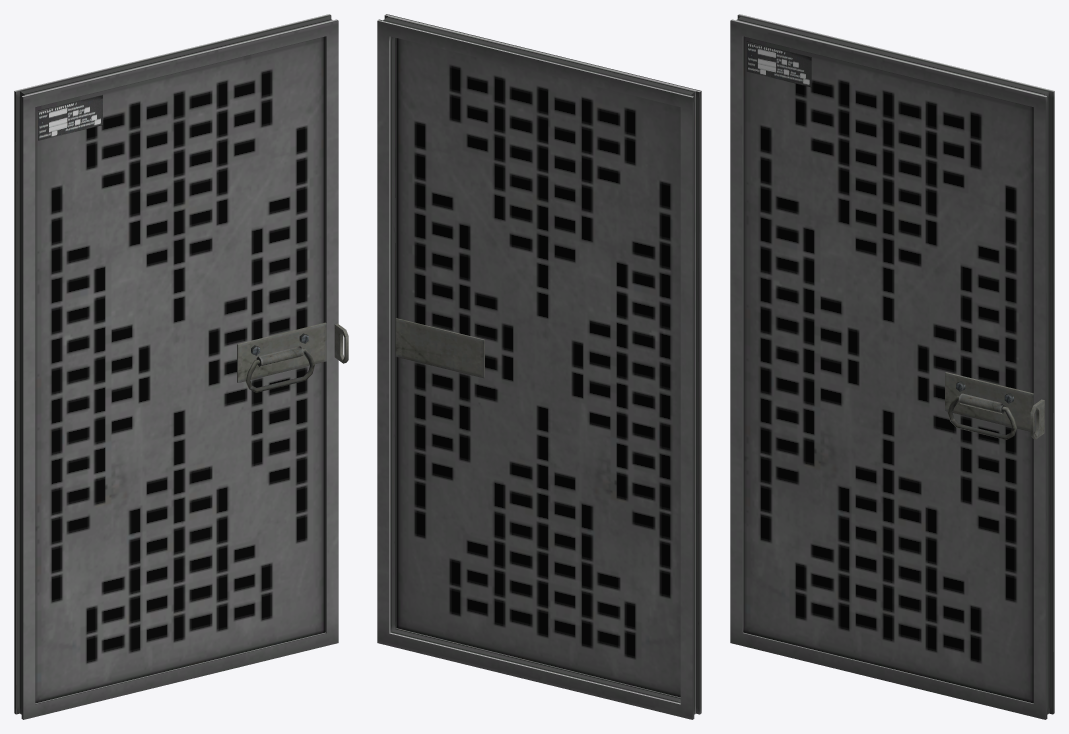
File: ctl_locker_military_door_rt_lod0.glb
The picture shows the model from 3 angles, left to right: view 1: azimuth 30°, elevation 25°; view 2: azimuth 150°, elevation 25°; view 3: azimuth 330°, elevation 25°; orthographic projection.
Visible parts, largest first — view 1: surf0, surf1; view 2: surf0, surf1; view 3: surf0, surf1.
Boxes of the visible parts, x1,y1,x2,y2 form: surf0: (35, 36, 325, 703); surf1: (14, 14, 348, 719); surf0: (396, 38, 680, 697); surf1: (377, 14, 701, 719); surf0: (743, 36, 1033, 703); surf1: (730, 14, 1054, 719).
Bounding box in the file's own units: 19.75 × 37.25 × 2.18.
